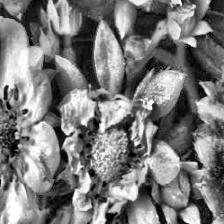Blossom Blight: (74, 109, 148, 202), (0, 81, 32, 188)
